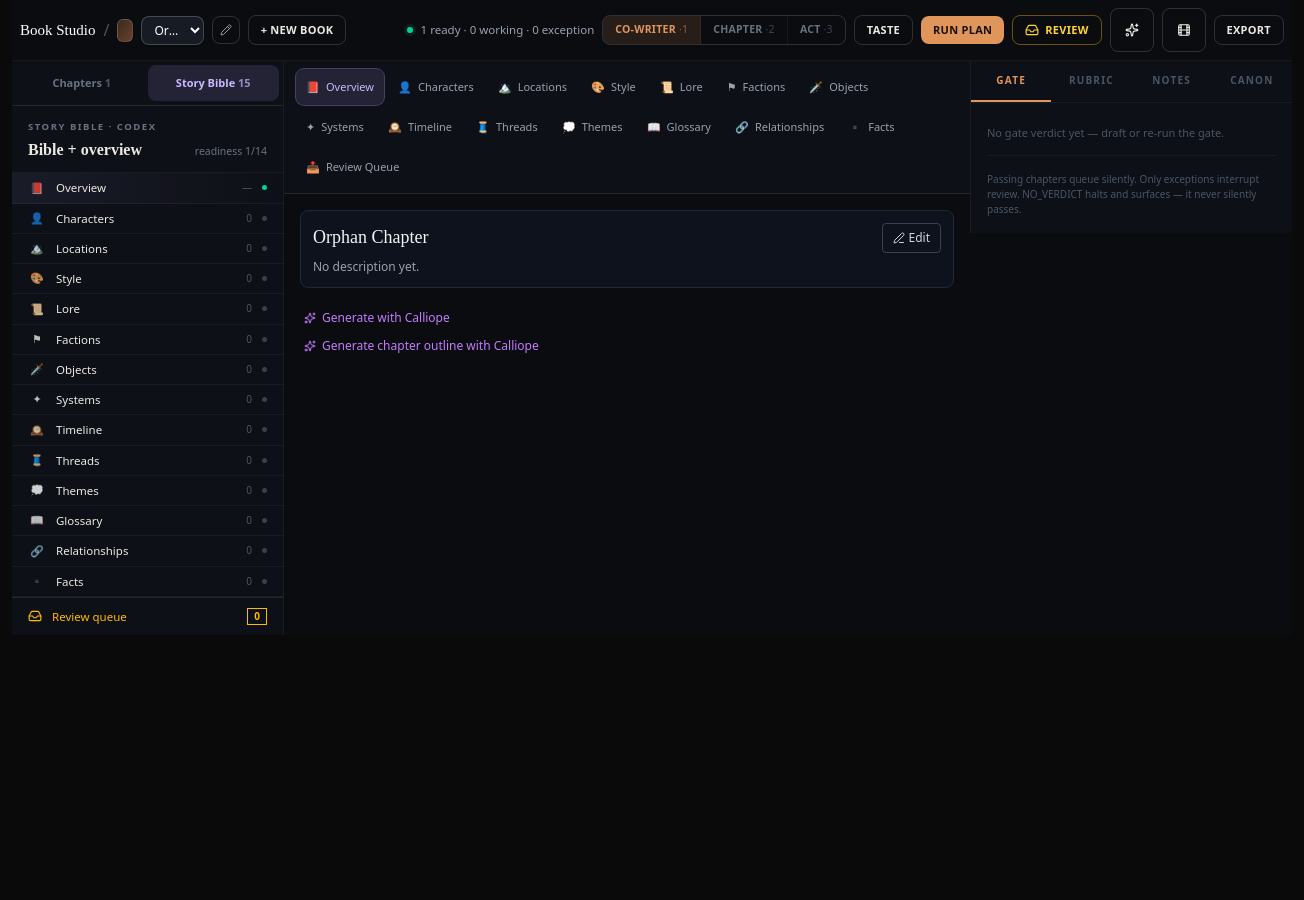
Test: DirectorsDeckPage — + NEW BOOK create flow › shows a manuscript-only chapter even when the outline has no matching row
Step 1. Click the tab "Chapters 1" → (82, 83), box [16, 65, 148, 101]
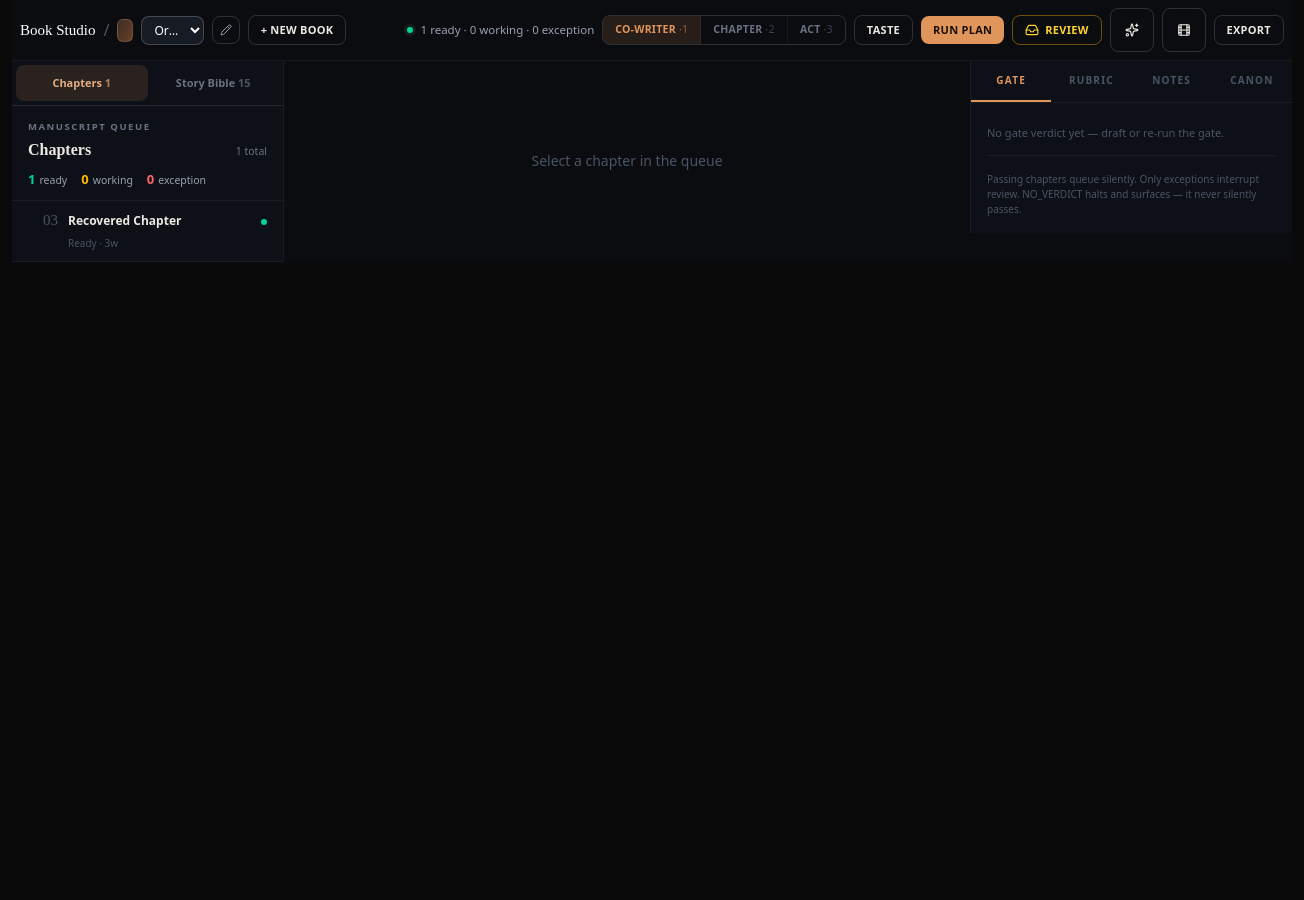
Now the text "Recovered Chapter" is shown, box [68, 212, 181, 229]
Now the text "1ready" is shown, box [28, 170, 67, 190]
